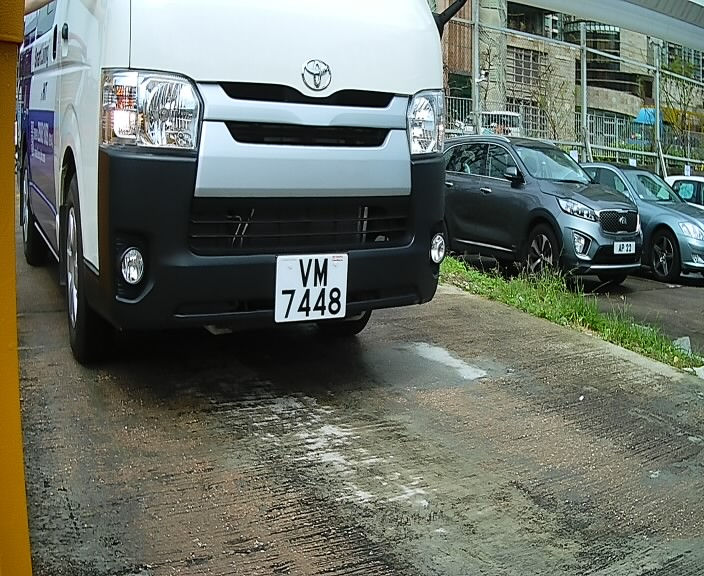Car: (38, 2, 462, 399)
License Plate: (270, 250, 355, 332)
